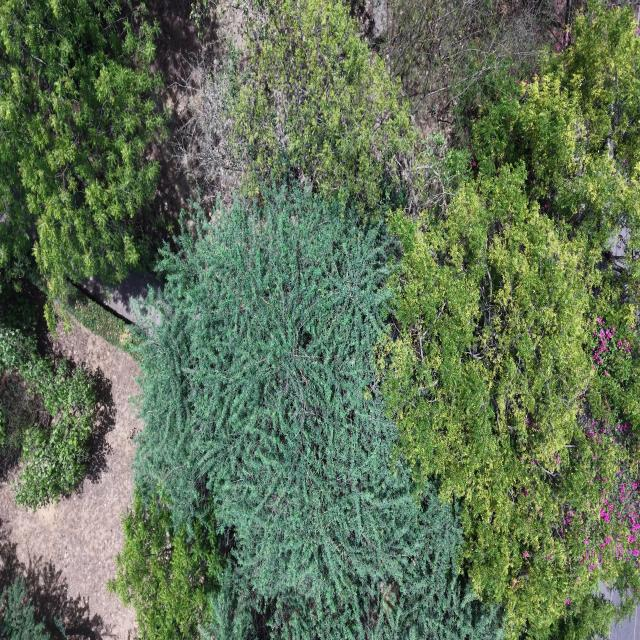DRY_AREA: (0, 324, 142, 639), (0, 324, 141, 639)
VEGETATION_TREE: (0, 0, 639, 639), (137, 3, 638, 637), (380, 4, 639, 638), (136, 189, 499, 639), (381, 170, 635, 637), (0, 0, 164, 508), (175, 0, 446, 215), (183, 0, 446, 217), (179, 0, 417, 214), (0, 0, 164, 290), (471, 4, 639, 244), (230, 0, 416, 212), (371, 0, 562, 145), (0, 327, 95, 509), (109, 493, 220, 639), (555, 0, 639, 179), (0, 523, 107, 639), (172, 45, 244, 210), (0, 286, 39, 478), (58, 282, 141, 357), (0, 370, 37, 476), (0, 576, 50, 639)
